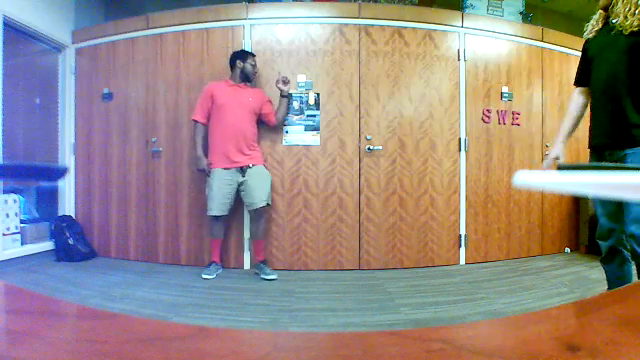up: (272, 67, 292, 95)
